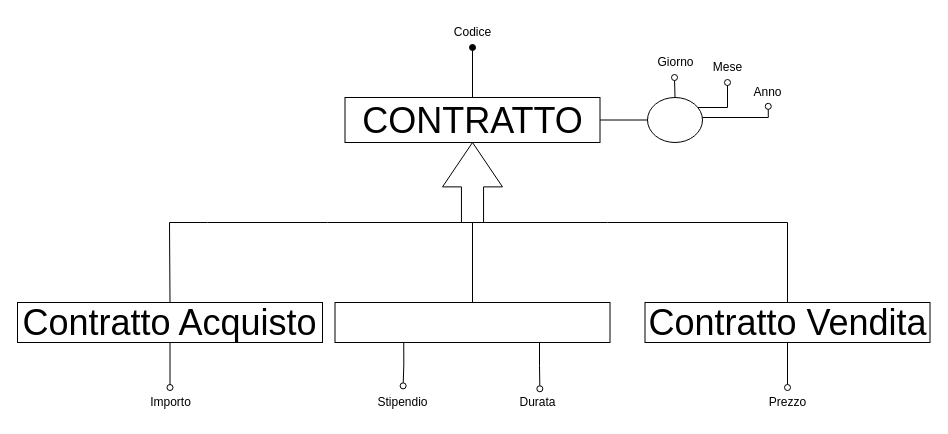
Image size: 948x434. Some labels were removed from this diagram. Each missing label, with the centre of its shape:
"Contratto Lavoro" belongs at point 472,322.
"Data" belongs at point 674,119.
